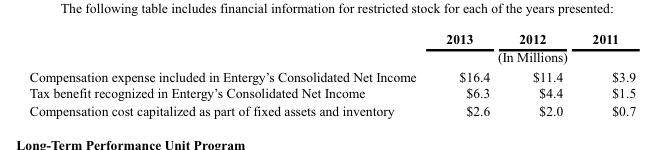table: (28, 28, 635, 119)
table column: (28, 28, 430, 119), (430, 28, 503, 119), (503, 28, 576, 119), (576, 28, 635, 119)
table column header: (28, 28, 635, 65)
table row: (28, 46, 635, 65), (28, 28, 635, 46), (28, 65, 635, 83), (28, 83, 635, 101), (28, 101, 635, 119)
table spanning cell: (430, 46, 635, 65)
